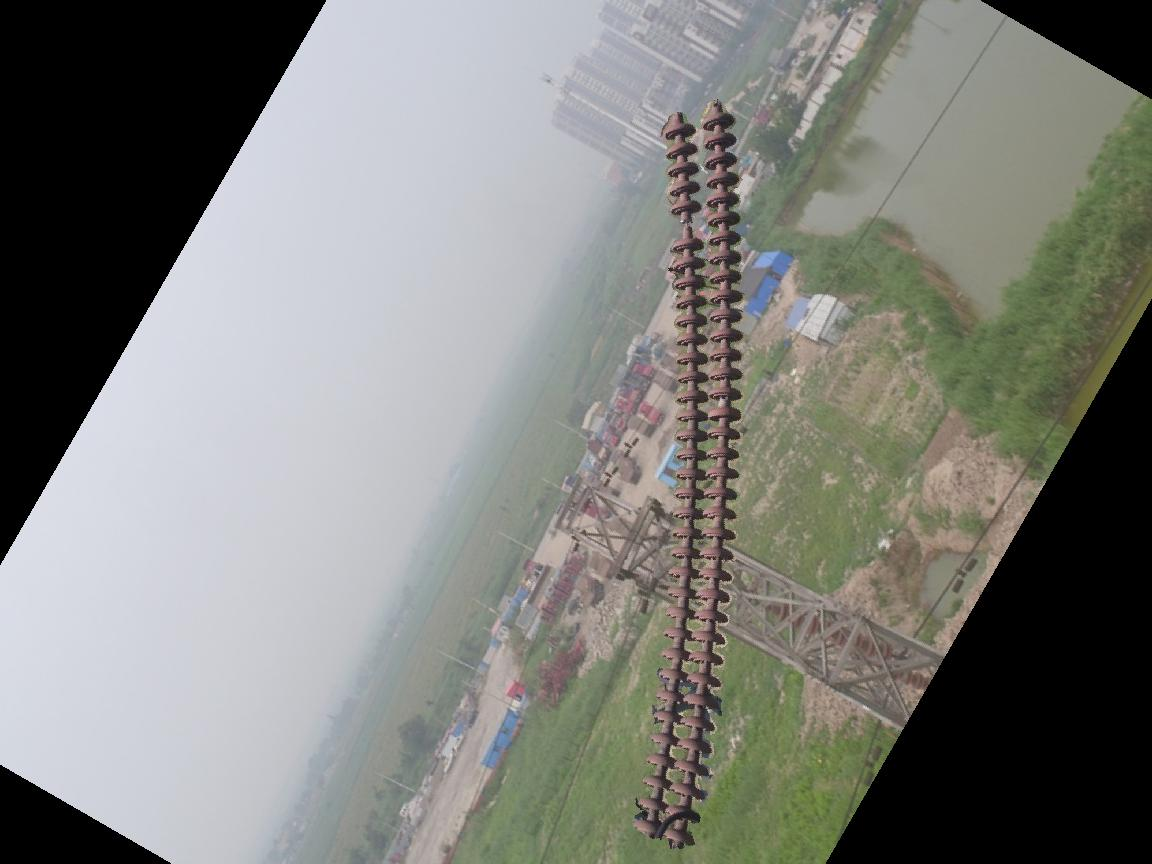insulator: (626, 95, 751, 849), (769, 605, 898, 663)
insulator_stringdrop: (666, 196, 708, 256)
